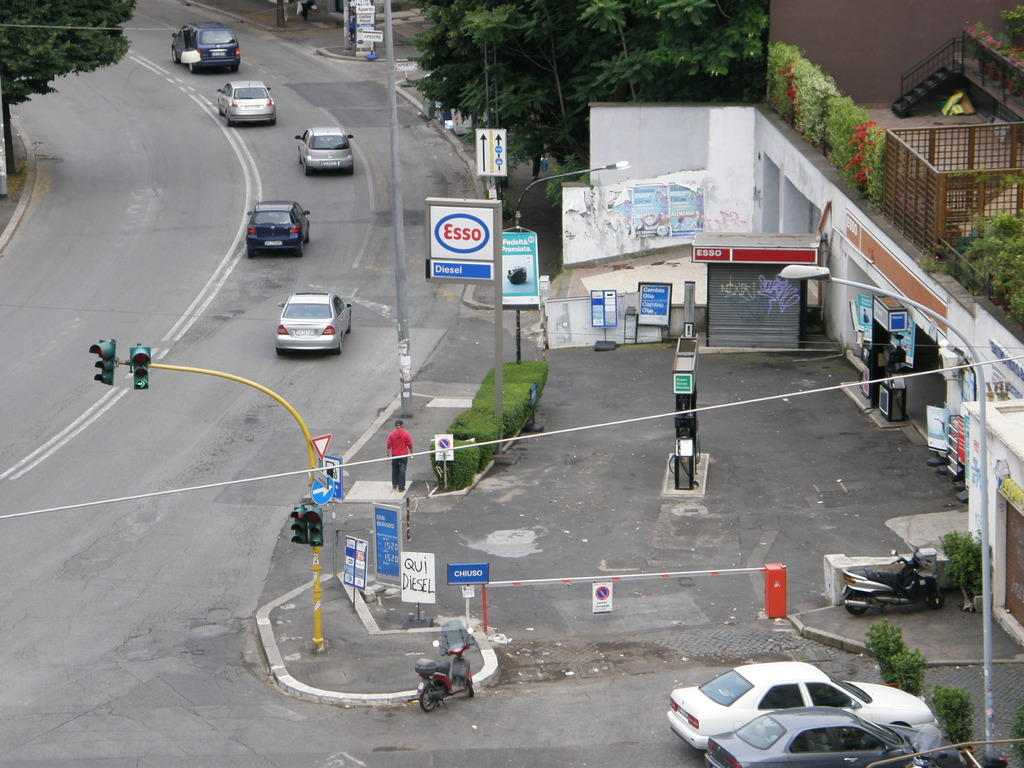Car: (658, 655, 940, 759), (691, 705, 959, 767), (273, 288, 355, 368), (165, 15, 248, 74), (245, 199, 313, 261), (295, 122, 358, 180), (215, 77, 279, 132)
